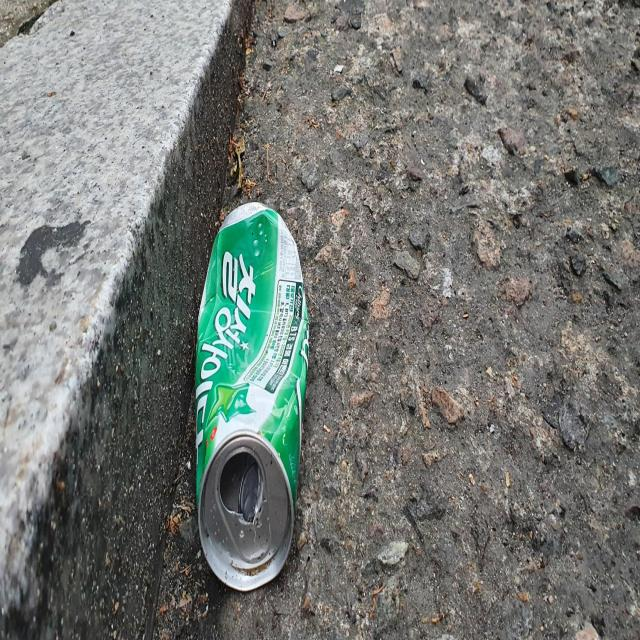can: (195, 200, 309, 592)
